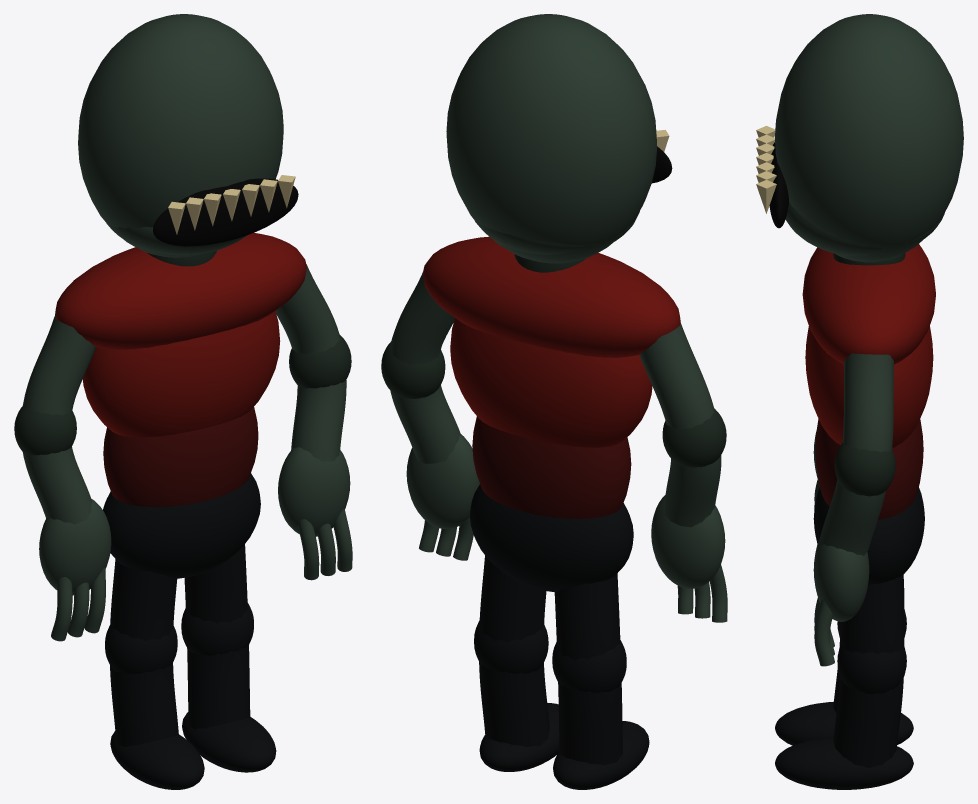
The model's file is enemigo1.obj.
3 renders of one model, left to right at view 1: azimuth 30°, elevation 25°; view 2: azimuth 150°, elevation 25°; view 3: azimuth 270°, elevation 25°, orthographic. The views are drawn at different scales.
Parts seen in each view (by area): view 1: Cráneo_humanoide, Hombros_del_polo, Polo_pecho, Polo_cintura, Cadera, Pierna_-1, Pierna_1, Brazo_izquierdo, Brazo_derecho, Sonrisa_grande, Palma_derecho, Palma_izquierdo (+13 smaller); view 2: Cráneo_humanoide, Hombros_del_polo, Polo_pecho, Polo_cintura, Cadera, Pierna_-1, Pierna_1, Brazo_izquierdo, Brazo_derecho, Palma_derecho, Palma_izquierdo, Pie_-1 (+7 smaller); view 3: Cráneo_humanoide, Hombros_del_polo, Pierna_1, Brazo_derecho, Polo_pecho, Pie_1, Cadera, Polo_cintura, Palma_derecho, Rodilla_1, Codo_derecho, Pie_-1 (+4 smaller).
Boxes of the visible parts, x1,y1,x2,y2 form: Cráneo_humanoide: (78,14,283,257); Hombros_del_polo: (55,233,306,349); Polo_pecho: (82,311,280,437); Polo_cintura: (103,407,258,506); Cadera: (103,473,260,578); Pierna_-1: (110,559,178,746); Pierna_1: (184,544,250,729); Brazo_izquierdo: (22,316,95,524); Brazo_derecho: (275,264,346,461); Sonrisa_grande: (153,178,298,246); Palma_derecho: (278,447,350,536); Palma_izquierdo: (39,499,111,595); Cráneo_humanoide: (446,14,657,263); Hombros_del_polo: (423,236,680,357); Polo_pecho: (450,318,652,447); Polo_cintura: (472,416,631,518); Cadera: (470,484,633,591); Pierna_-1: (554,573,622,765); Pierna_1: (479,555,549,746); Brazo_izquierdo: (639,323,721,527); Brazo_derecho: (390,272,460,463); Palma_derecho: (406,434,479,528); Palma_izquierdo: (651,495,725,588); Pie_-1: (553,721,649,789); Cráneo_humanoide: (775,14,963,262); Hombros_del_polo: (802,244,935,364); Pierna_1: (833,576,904,767); Brazo_derecho: (820,353,893,555); Polo_pecho: (805,326,933,448); Pie_1: (775,737,913,789); Cadera: (813,487,924,584); Polo_cintura: (815,418,923,519); Palma_derecho: (813,537,869,621); Rodilla_1: (837,645,906,694); Codo_derecho: (834,442,895,496); Pie_-1: (775,701,913,745).
Size of the model in its own units: 2.76 by 5.91 by 1.49.
